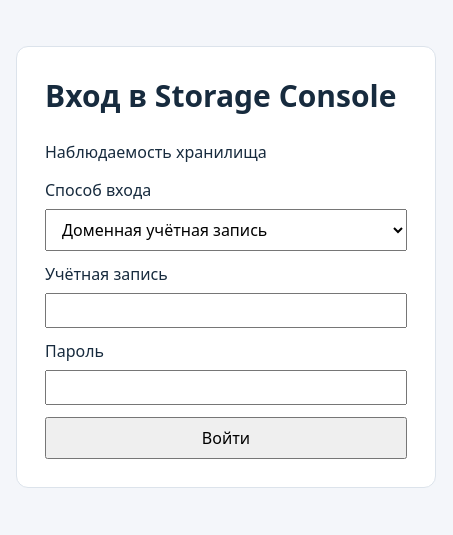
Scenario: generic failed login clears password without persisting it
The image size is (453, 535).
Expected: the heading "Вход в Storage Console" is shown, x1=45 y1=75 x2=407 y2=116
Type "synthetic" into the field labelled "Учётная запись" at (226, 310), box x1=45 y1=293 x2=407 y2=328
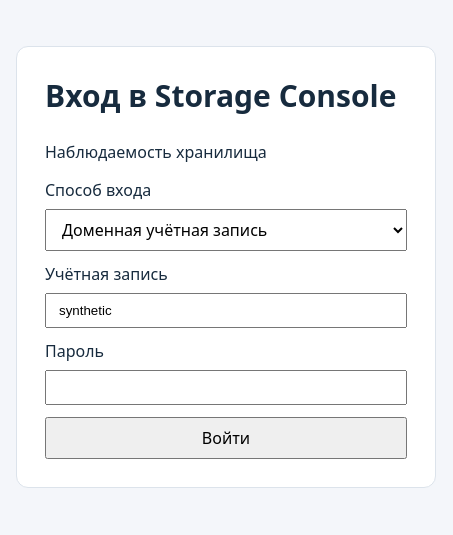
Type "synthetic-private-password" into the password field labelled "Пароль" at (226, 387), box x1=45 y1=370 x2=407 y2=405
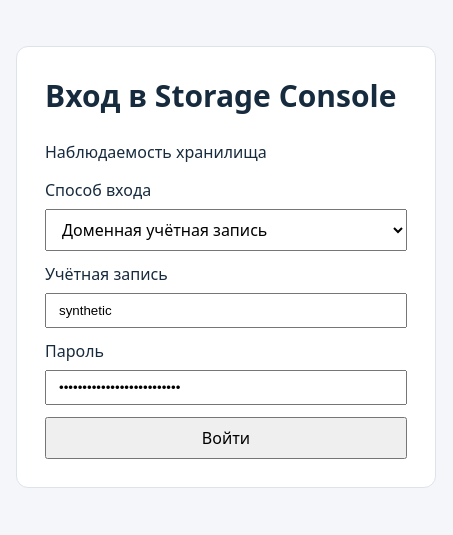
Click the button "Войти" at (226, 438), box x1=45 y1=417 x2=407 y2=459
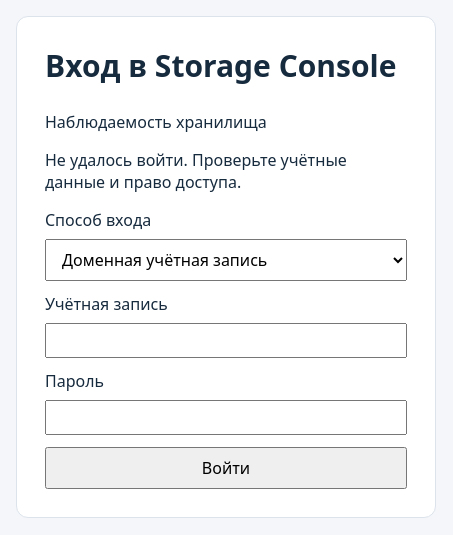
Expected: the message shows "Не удалось войти", x1=45 y1=149 x2=347 y2=193
Expected: the password field labelled "Пароль" is empty, x1=45 y1=400 x2=407 y2=435
